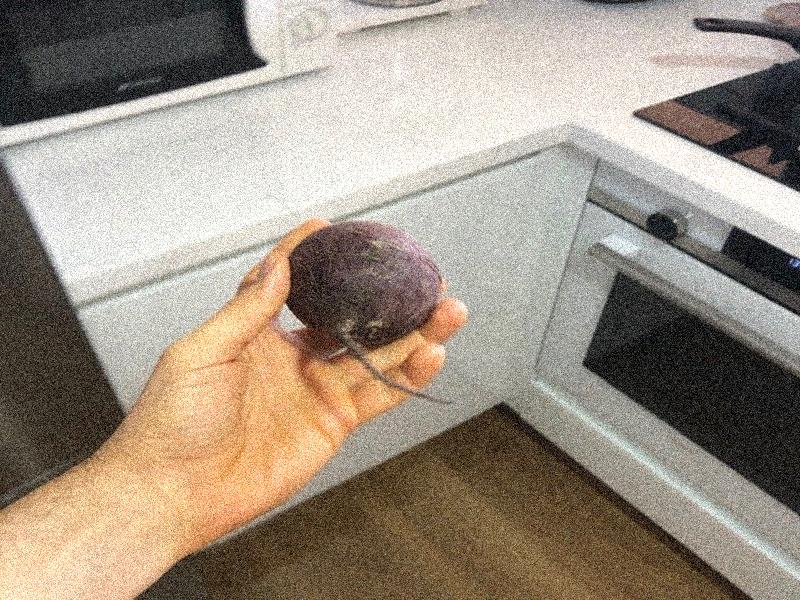Beet: (286, 220, 456, 405)
